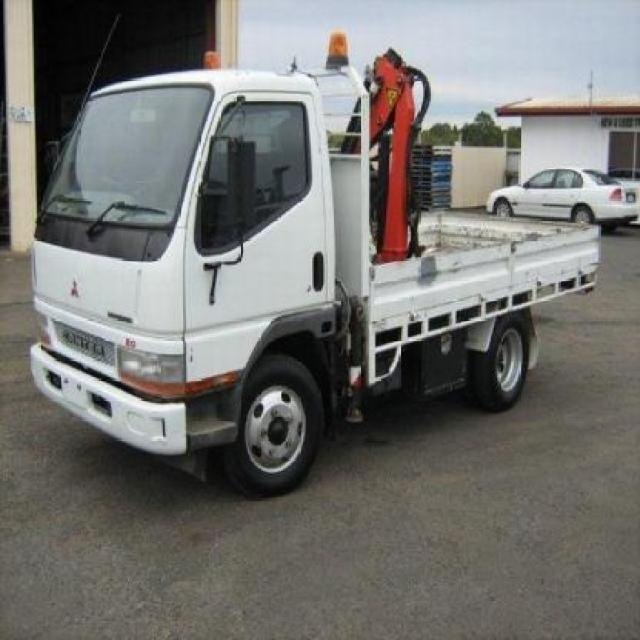truck: (27, 32, 601, 495)
